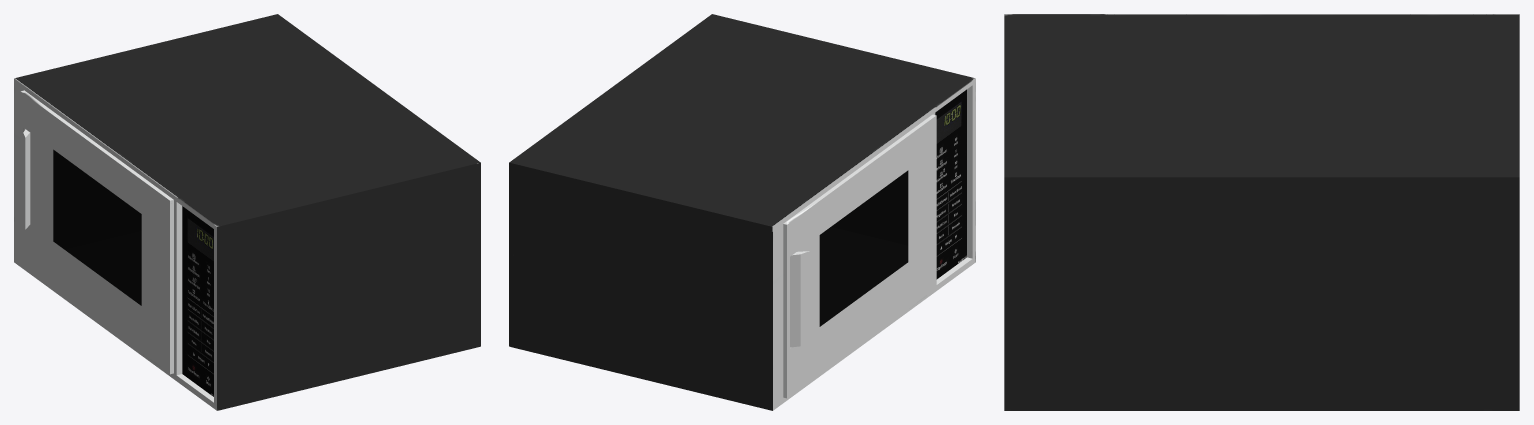
File: Microwave.fbx
The picture shows the model from 3 angles, left to right: view 1: azimuth 30°, elevation 25°; view 2: azimuth 150°, elevation 25°; view 3: azimuth 270°, elevation 25°; orthographic projection. The views are drawn at different scales.
Visible parts, largest first — view 1: Microwave; view 2: Microwave; view 3: Microwave.
Part boxes in pixels (x1,y1,x2,y2): Microwave: (14, 14, 480, 410); Microwave: (509, 14, 975, 410); Microwave: (1004, 14, 1519, 410).
Size of the model in its own units: 45.86 by 29.15 by 58.3.
2 materials, 1 textured.
